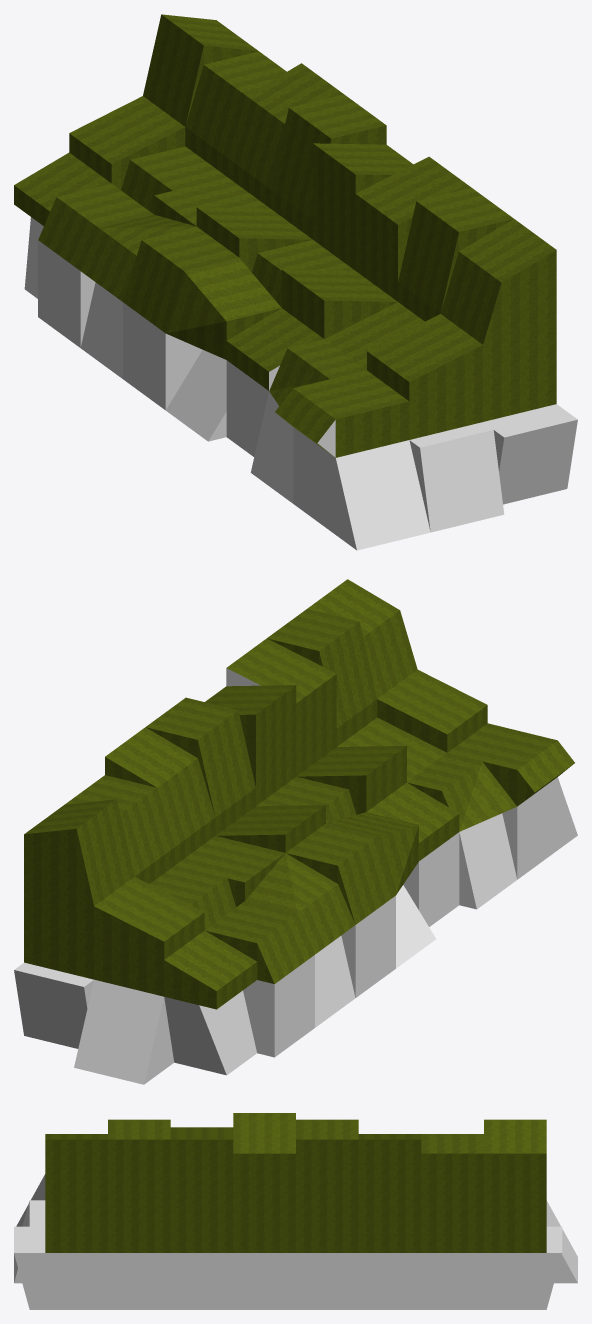
Rendered from holm.fbx.
3 views of the same model, one above another, from view 1: azimuth 30°, elevation 25°; view 2: azimuth 150°, elevation 25°; view 3: azimuth 270°, elevation 25° (orthographic). The views are drawn at different scales.
Parts seen in each view (by area): view 1: холмы; view 2: холмы; view 3: холмы.
Part boxes in pixels (x1,y1,x2,y2): холмы: [14, 14, 577, 550]; холмы: [14, 579, 577, 1084]; холмы: [14, 1113, 577, 1309].
Bounding box in the file's own units: 3250 × 3000 × 9000.
